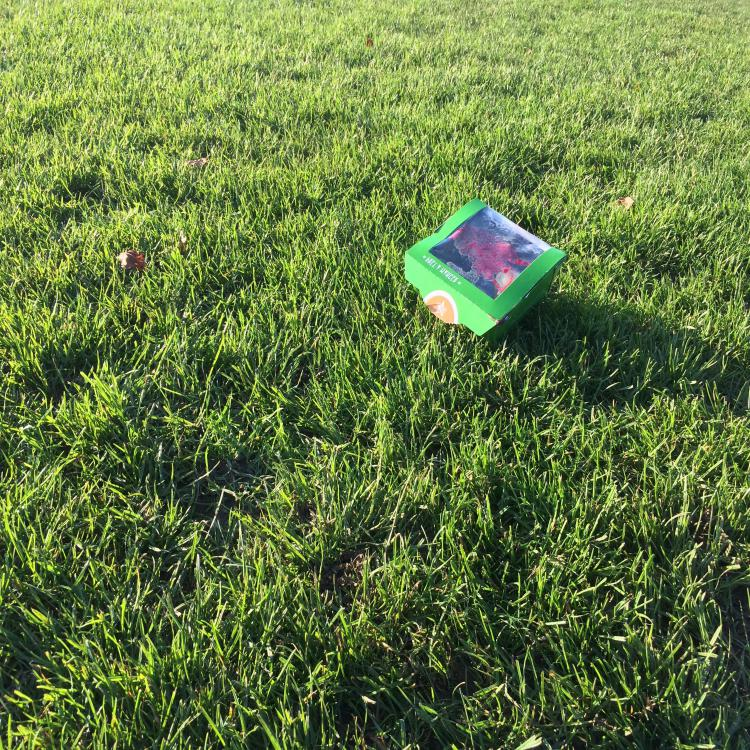Plastic film: (429, 206, 552, 300)
